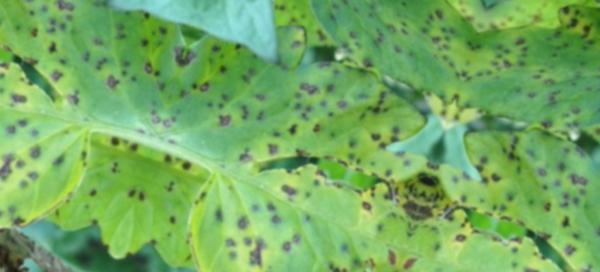Tomato Septoria leaf spot: (99, 2, 460, 272), (273, 0, 511, 100)
